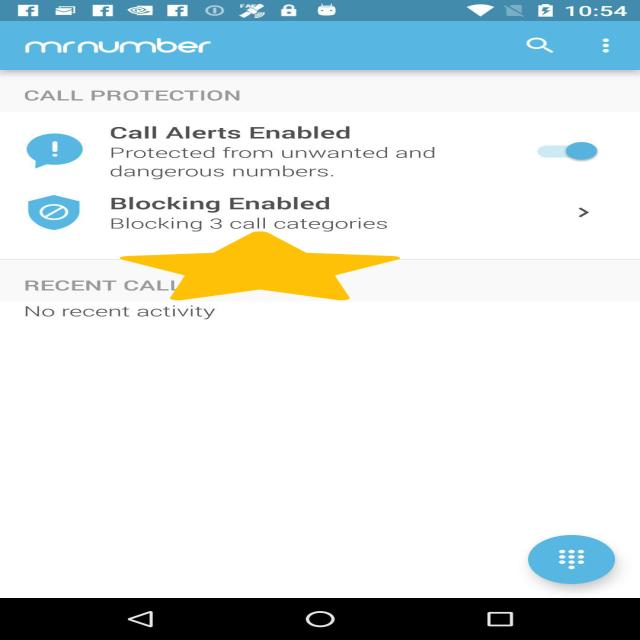forced continuity: (120, 232, 400, 300)
